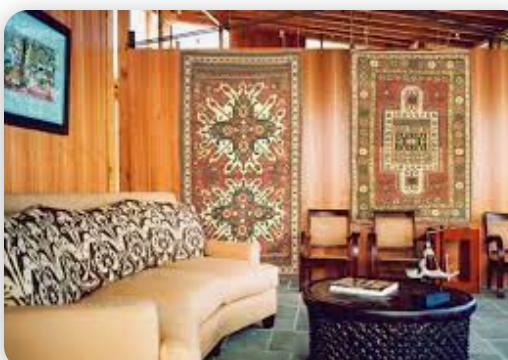carpet: (183, 53, 299, 273), (353, 52, 469, 221)
